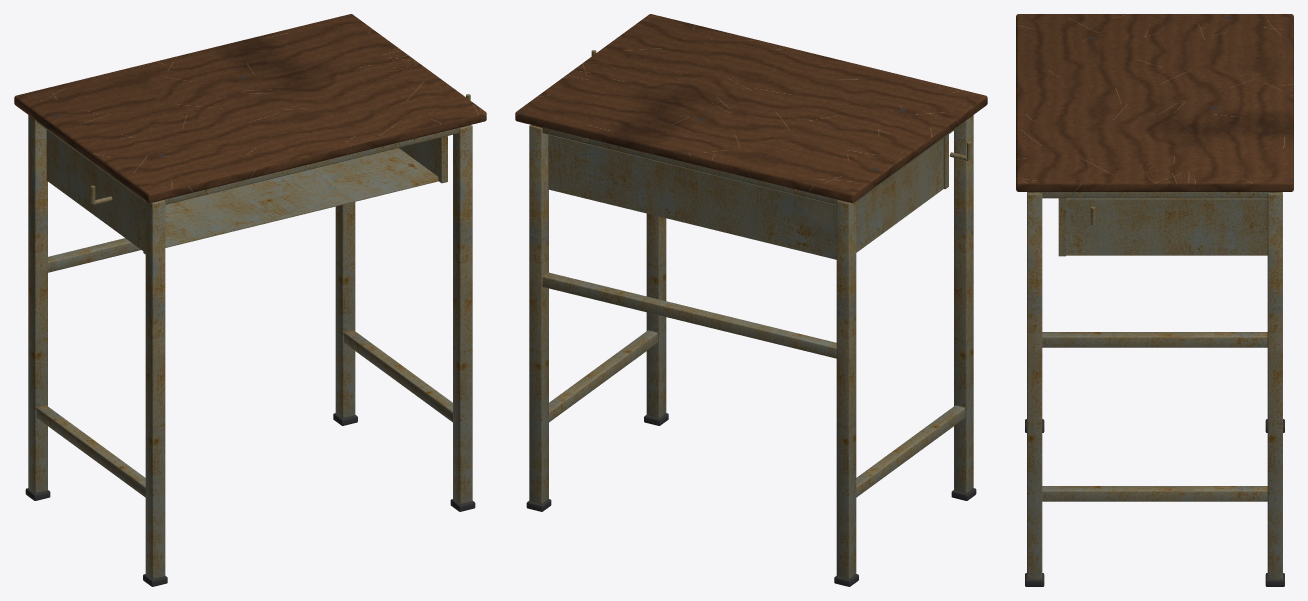
3 renders of one model, left to right at view 1: azimuth 30°, elevation 25°; view 2: azimuth 150°, elevation 25°; view 3: azimuth 270°, elevation 25°, orthographic. The views are drawn at different scales.
Parts seen in each view (by area): view 1: R02-01_StudentDesk; view 2: R02-01_StudentDesk; view 3: R02-01_StudentDesk.
Part boxes in pixels (x1,y1,x2,y2): R02-01_StudentDesk: [14, 14, 486, 586]; R02-01_StudentDesk: [515, 14, 987, 586]; R02-01_StudentDesk: [1016, 14, 1293, 586].
Size of the model in its own units: 72.76 by 73 by 45.
Materials: 3 (2 with a texture image).
